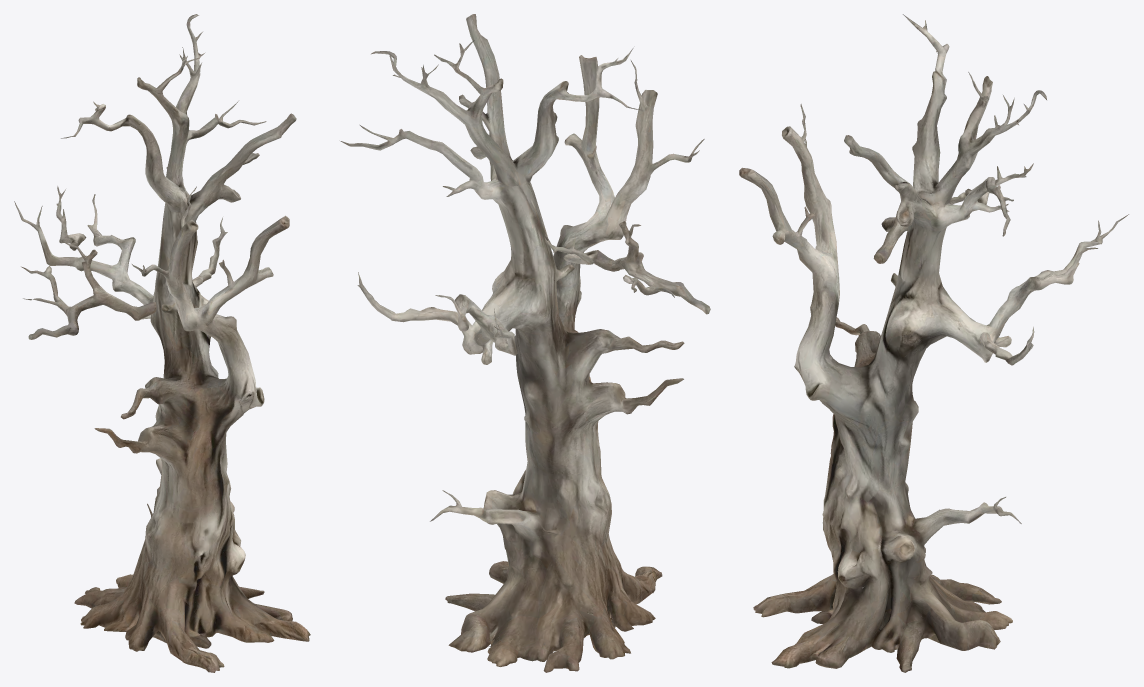
Rendered from prop-dead-snag.glb.
The picture shows the model from 3 angles, left to right: view 1: azimuth 30°, elevation 25°; view 2: azimuth 150°, elevation 25°; view 3: azimuth 270°, elevation 25°; orthographic projection. The views are drawn at different scales.
Bounding box in the file's own units: 1.06 × 1.91 × 1.17.
Materials: 1 (1 with a texture image).
